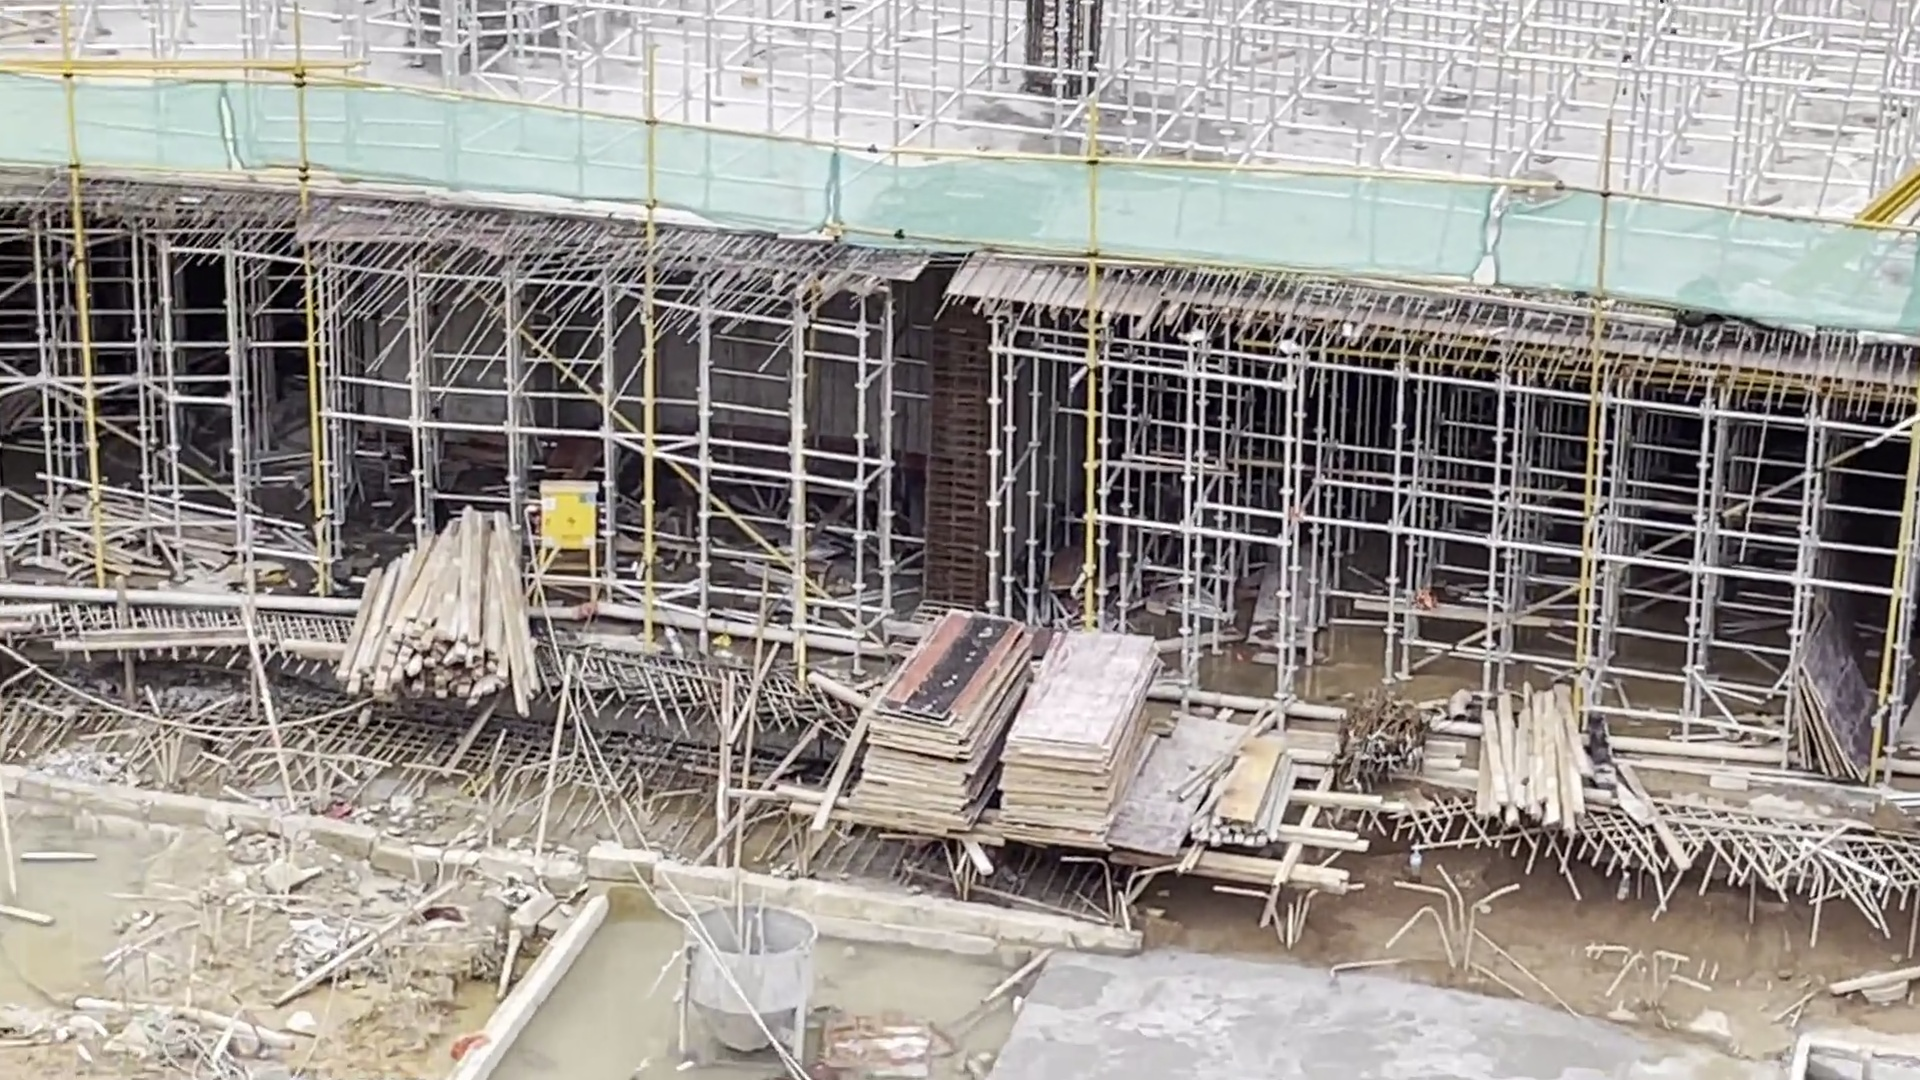board: (853, 603, 1029, 836), (997, 630, 1160, 843)
ebox: (533, 477, 601, 601)
rebar: (1324, 674, 1433, 796)
wood: (338, 505, 537, 712), (1476, 670, 1604, 832)
